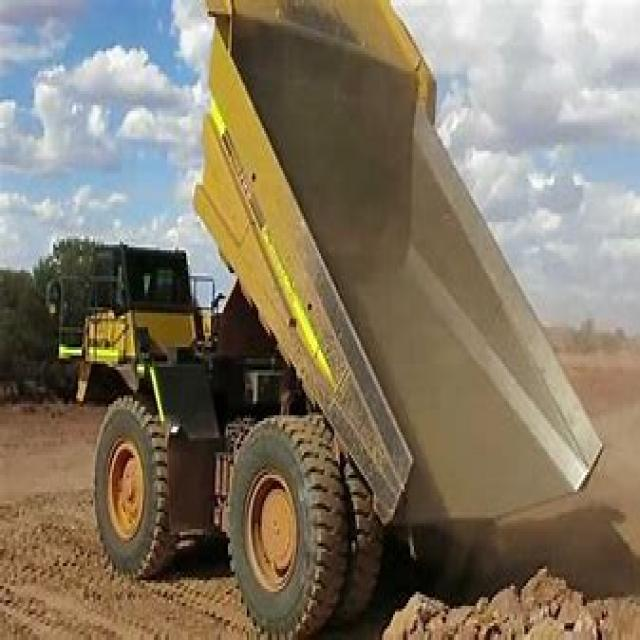dump_truck: (53, 9, 593, 637)
